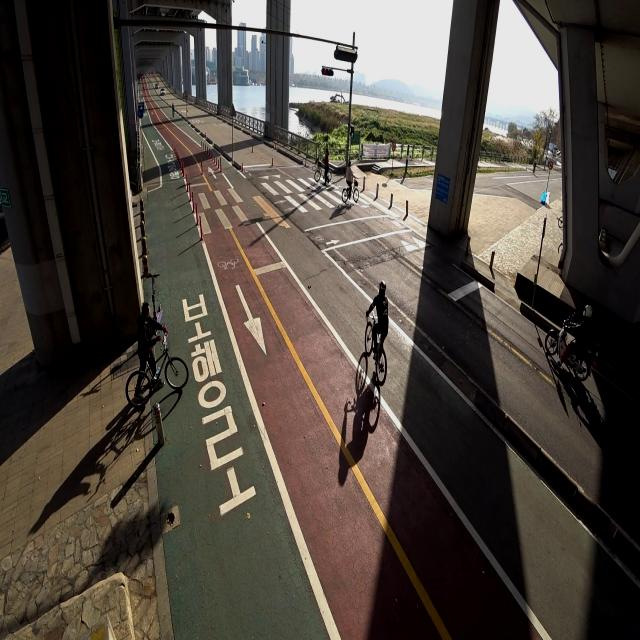Car: (154, 80, 160, 93), (161, 86, 166, 98)
Motorcycle: (542, 298, 600, 384)
